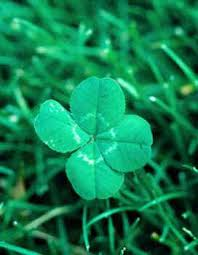4-clover: (36, 76, 152, 199)
